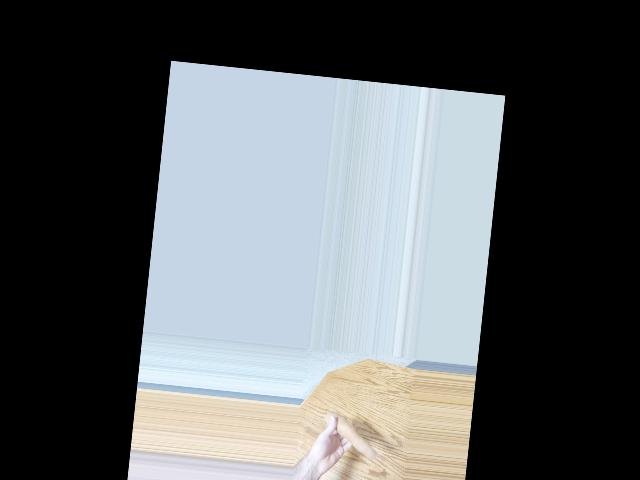sweet_potato: (321, 413, 380, 461)
